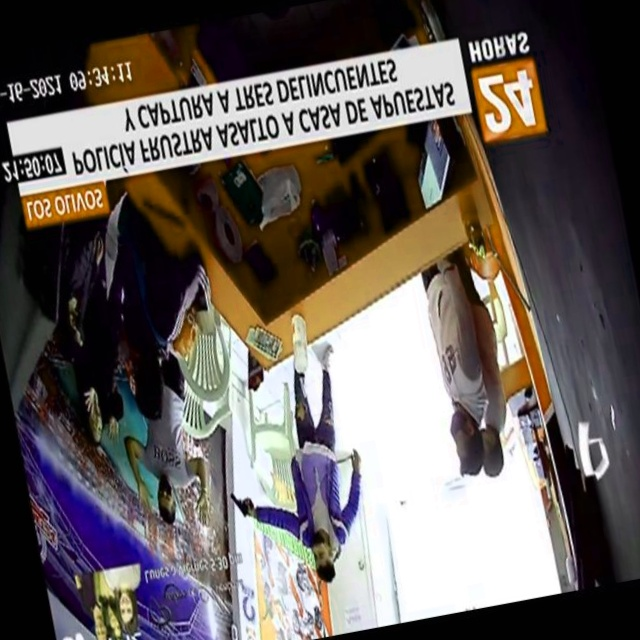gun: (226, 482, 264, 535)
